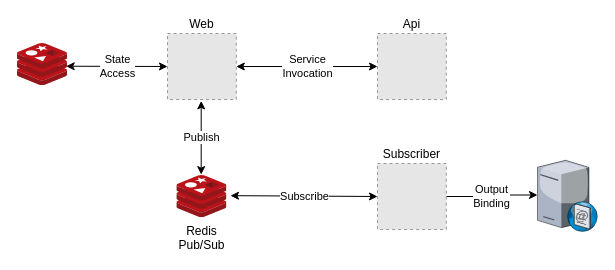
Image size: 615x270. Some labels were removed from this diagram. Grey dashed boxes stand in for pictures. The centre of each missing label's shape, as x and y in pixels:
Redis Cache: (42,64)
SMTP Server: (567,194)
